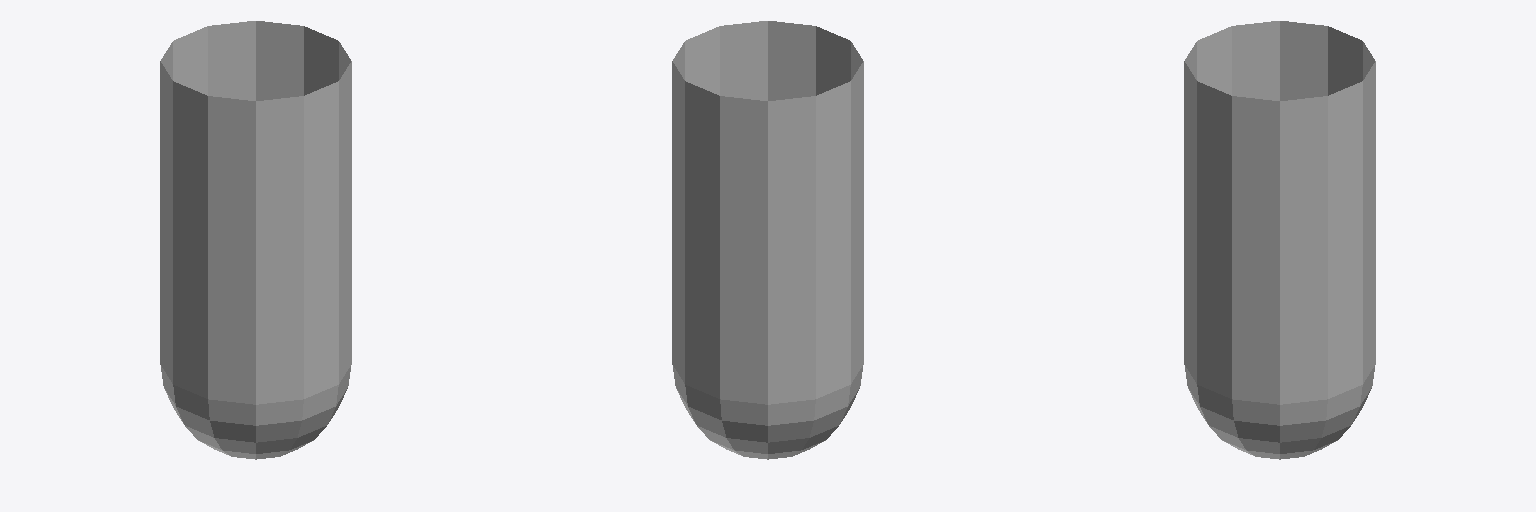
File: leftleg.obj
The picture shows the model from 3 angles: view 1: azimuth 30°, elevation 25°; view 2: azimuth 150°, elevation 25°; view 3: azimuth 270°, elevation 25°; orthographic projection.
Visible parts, largest first — view 1: polySurface7 AndroidRobot:Mesh; view 2: polySurface7 AndroidRobot:Mesh; view 3: polySurface7 AndroidRobot:Mesh.
Part boxes in pixels (x1,y1,x2,y2): polySurface7 AndroidRobot:Mesh: (160,21,351,459); polySurface7 AndroidRobot:Mesh: (672,21,863,459); polySurface7 AndroidRobot:Mesh: (1184,21,1375,459).
Size of the model in its own units: 0.6294 by 1.42 by 0.6294.